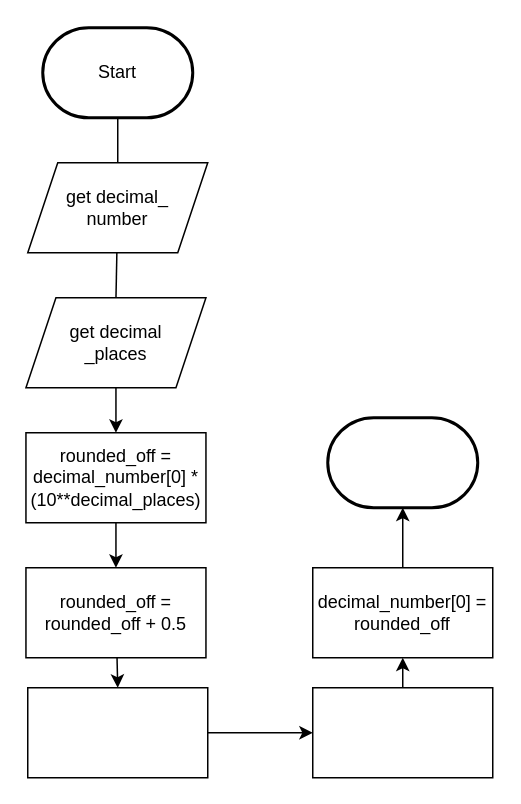
Image size: 521x804. Some labels were removed from this diagram. Here are the shapes that lost their labels. From the top down, the centre of each, then its label:
At pixel 402 462: "Stop".
At pixel 117 732: "rounded_off = int(rounded_off)".
At pixel 402 732: "rounded_off = rounded_off / (10**decimal_places)".
